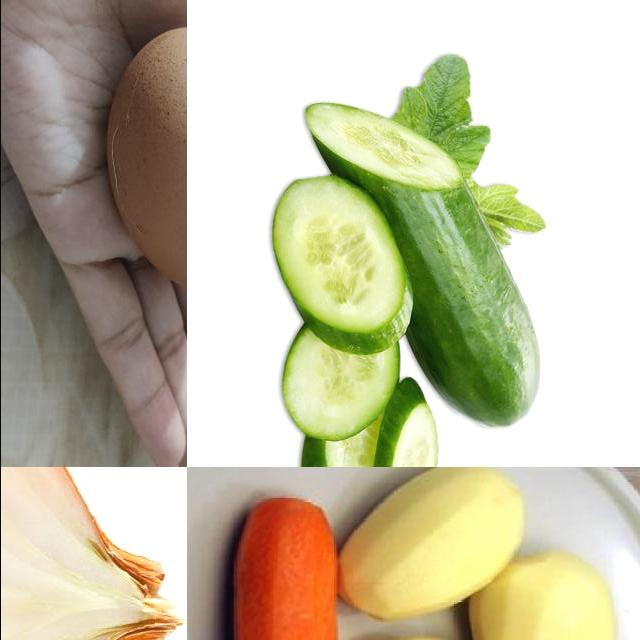carrot: (216, 498, 340, 640)
cucumber: (300, 99, 540, 437)
egg: (105, 18, 187, 304)
onion: (1, 468, 178, 640)
potato: (342, 468, 529, 625), (462, 547, 618, 640)
